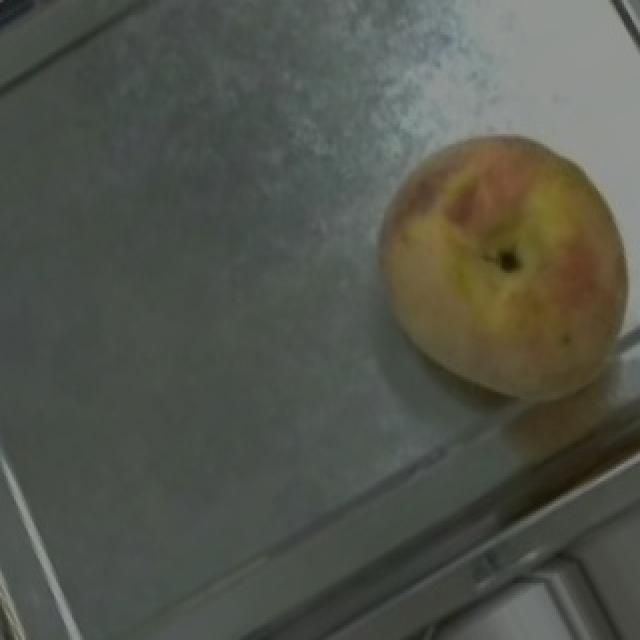Fruit: (334, 94, 640, 442)
